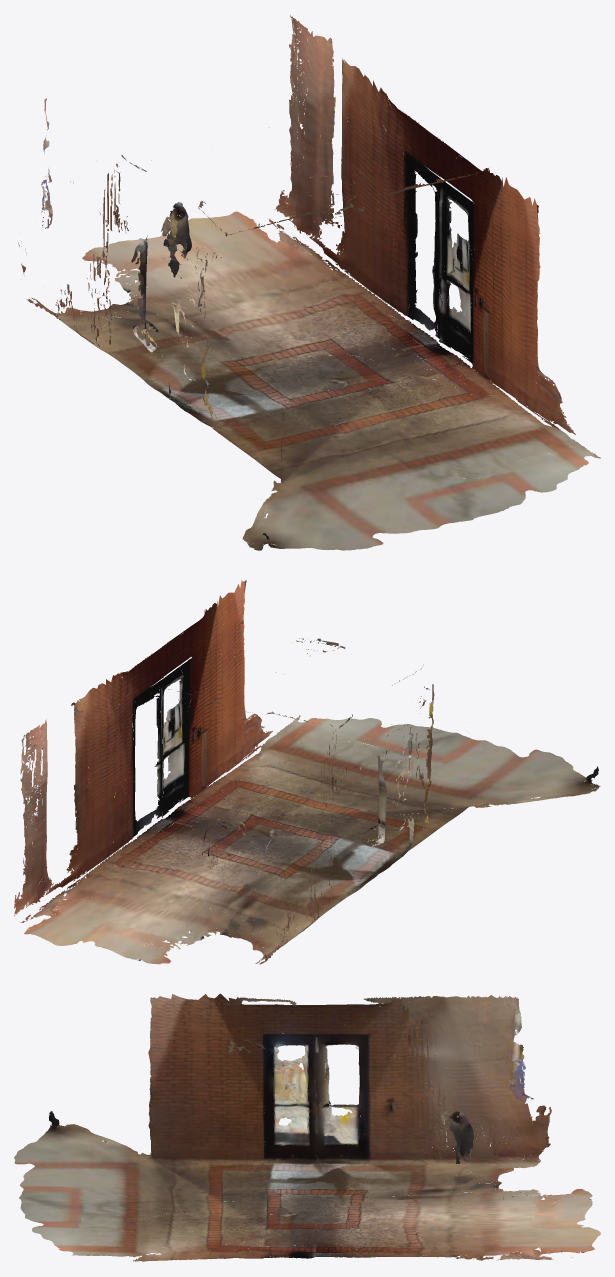
Rendered from outer1.glb.
3 views of the same model, one above another, from view 1: azimuth 30°, elevation 25°; view 2: azimuth 150°, elevation 25°; view 3: azimuth 270°, elevation 25° (orthographic). The views are drawn at different scales.
Visible parts, largest first — view 1: outer1_F1; view 2: outer1_F1; view 3: outer1_F1.
Part boxes in pixels (x1,y1,x2,y2): outer1_F1: (18, 15, 600, 550); outer1_F1: (14, 579, 600, 964); outer1_F1: (14, 993, 600, 1261).
Size of the model in its own units: 5.79 by 3.32 by 10.26.
1 material, 1 textured.
